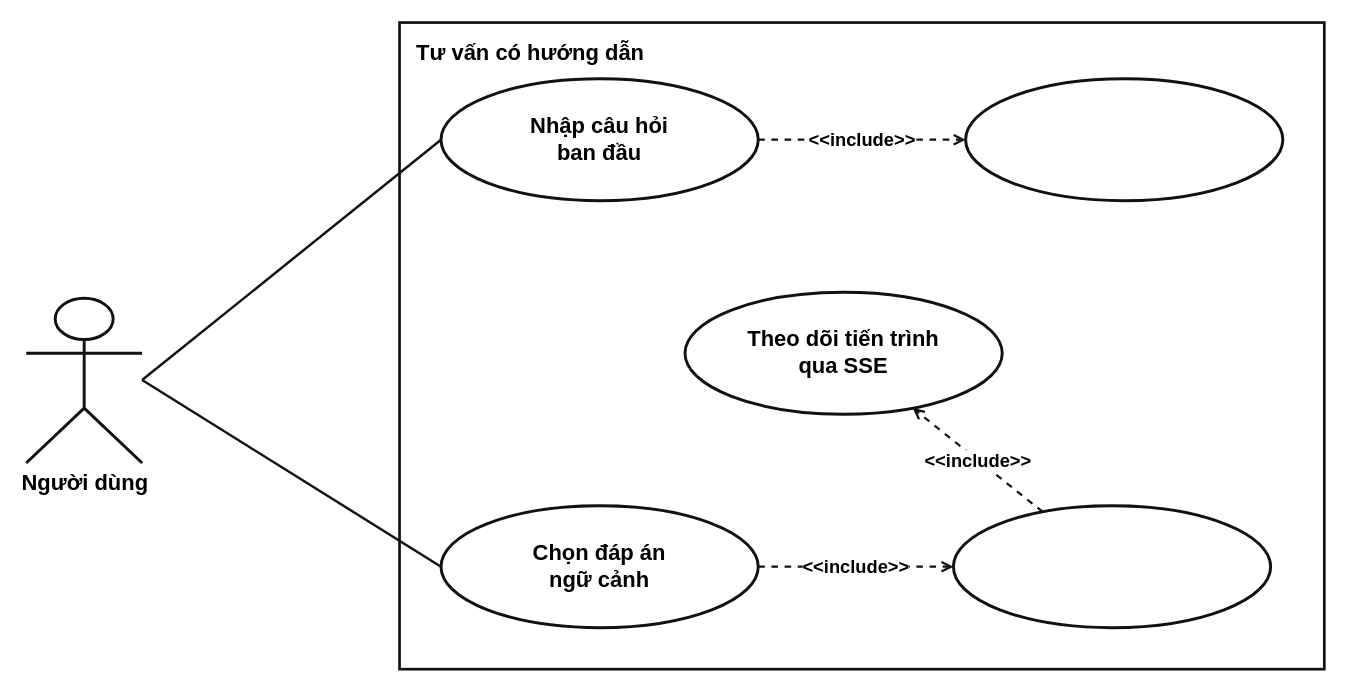
Image size: 1347x692. Some labels were removed from this diagram. Each missing label, with the box of its shape:
Nhận câu hỏi làm rõ: (964, 77, 1284, 202)
Nhận câu trả lời có nguồn dẫn: (951, 504, 1271, 629)
